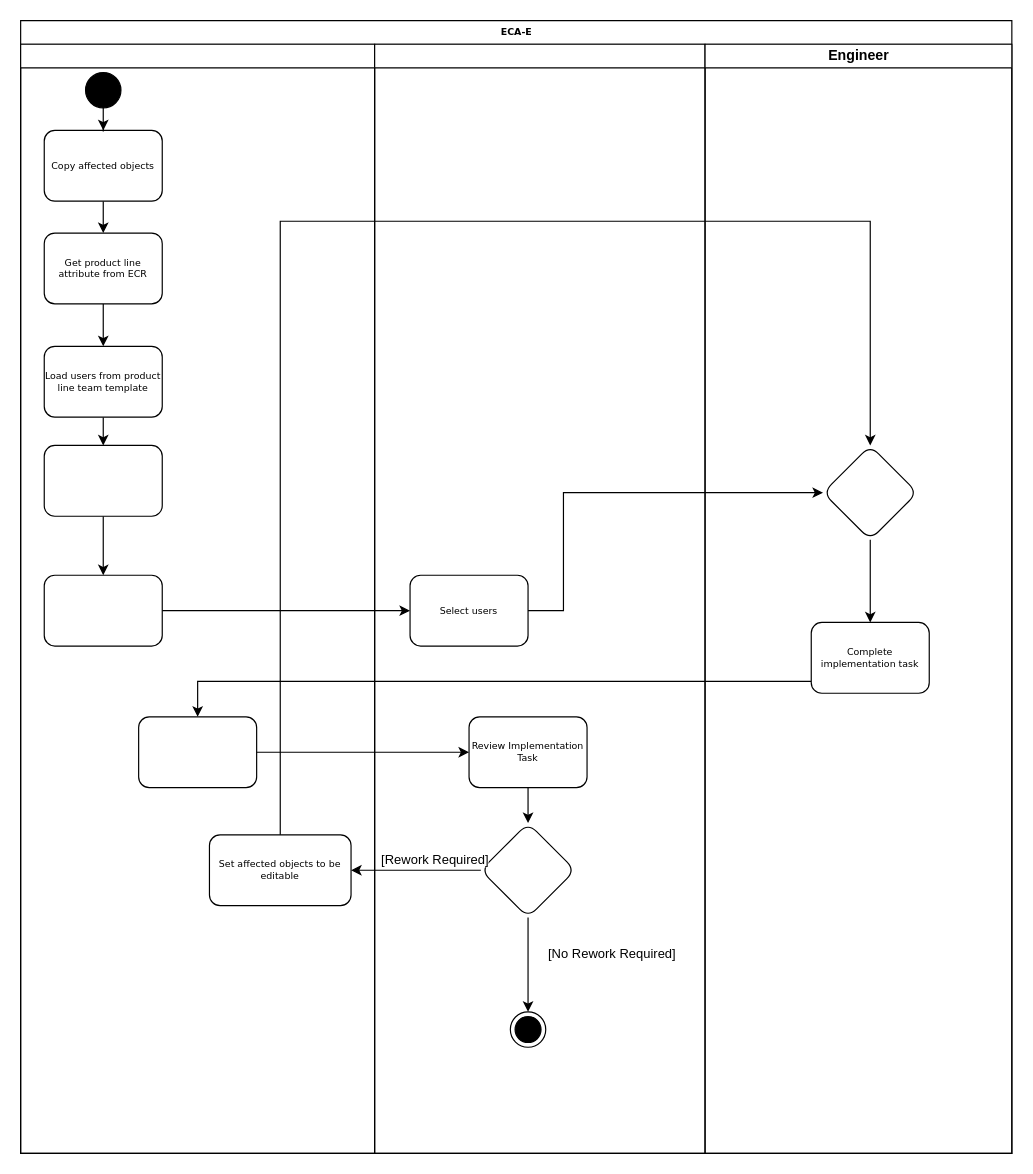
The diagram is 1033 pixels wide and 1174 high, and some of its shapes have lost their labels. The box of each missing label's shape, as (x1, y1, x2, y2) in pixels:
Change Admin: (373, 43, 705, 1153)
Get all radio button attributes from ECR: (43, 444, 162, 516)
Lock affected objects: (137, 716, 257, 788)
Remove users that are not needed: (43, 574, 162, 646)
System: (19, 43, 375, 1153)
